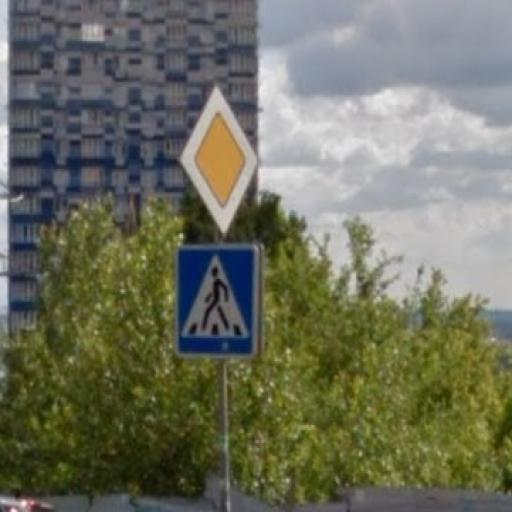traffic_sign: (177, 83, 263, 241), (171, 242, 269, 362)
